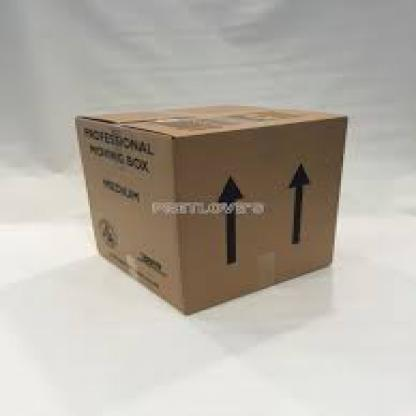box: (73, 101, 346, 318)
